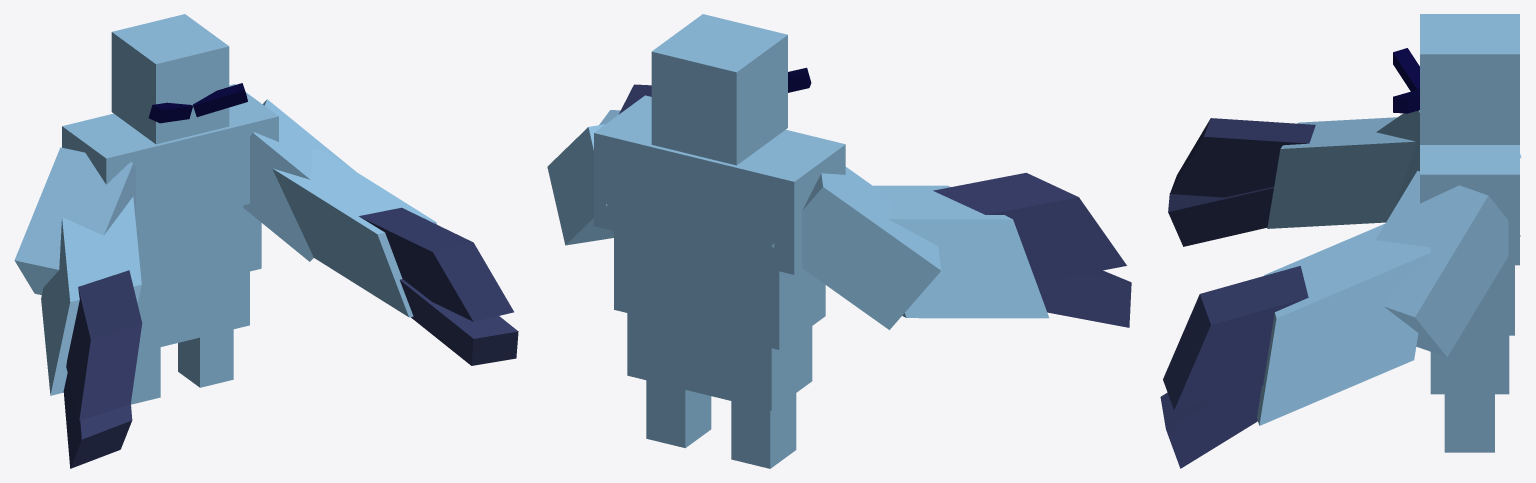
The model's file is Brawlster.fbx.
3 renders of one model, left to right at view 1: azimuth 30°, elevation 25°; view 2: azimuth 150°, elevation 25°; view 3: azimuth 270°, elevation 25°, orthographic. The views are drawn at different scales.
Parts seen in each view (by area): view 1: Cube, Cube.013, Cube.008, Cube.012, Cube.009, Cube.001, Cube.006, Cube.007, Cube.002, Cube.005, Cube.010, Cube.011 (+4 smaller); view 2: Cube, Cube.013, Cube.001, Cube.006, Cube.007, Cube.002, Cube.012, Cube.005, Cube.011, Cube.003, Cube.004; view 3: Cube.008, Cube.005, Cube.013, Cube.007, Cube.009, Cube.012, Cube, Cube.010, Cube.011, Cube.002, Cube.004, Cube.001 (+3 smaller).
Part boxes in pixels (x1,y1,x2,y2): Cube: [62, 84, 278, 230]; Cube.013: [111, 14, 229, 144]; Cube.008: [272, 148, 436, 317]; Cube.012: [66, 270, 142, 420]; Cube.009: [359, 207, 513, 321]; Cube.001: [137, 205, 261, 298]; Cube.006: [14, 147, 139, 294]; Cube.007: [41, 196, 141, 395]; Cube.002: [137, 271, 249, 352]; Cube.005: [243, 99, 355, 261]; Cube.010: [400, 279, 518, 365]; Cube.011: [63, 373, 132, 468]; Cube: [594, 95, 845, 274]; Cube.013: [651, 14, 787, 165]; Cube.001: [614, 231, 825, 349]; Cube.006: [771, 167, 941, 329]; Cube.007: [873, 185, 1048, 318]; Cube.002: [627, 313, 812, 410]; Cube.012: [933, 172, 1126, 282]; Cube.005: [547, 124, 613, 245]; Cube.011: [1036, 270, 1131, 327]; Cube.003: [731, 393, 796, 468]; Cube.004: [646, 380, 711, 448]; Cube.008: [1257, 223, 1431, 425]; Cube.005: [1376, 170, 1520, 357]; Cube.013: [1420, 14, 1519, 144]; Cube.007: [1267, 117, 1416, 228]; Cube.009: [1163, 266, 1308, 410]; Cube.012: [1170, 118, 1315, 197]; Cube: [1420, 145, 1519, 265]; Cube.010: [1160, 386, 1261, 468]; Cube.011: [1168, 186, 1273, 246]; Cube.002: [1430, 335, 1509, 394]; Cube.004: [1444, 394, 1494, 452]; Cube.001: [1460, 265, 1514, 335].
Size of the model in its own units: 1160 by 861 by 723.
